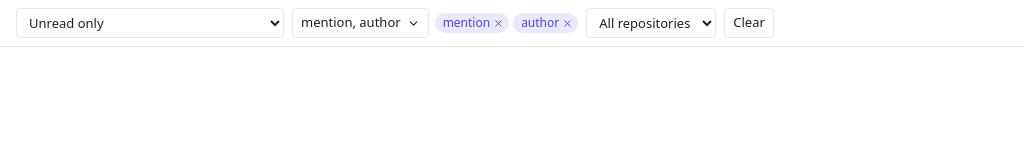
it: FilterBar › keeps selected reasons visible when absent from the current items
The width and height of the screenshot is (1024, 162).
Click the button with aria-label "Reason filter". click: (360, 23)
box: [292,8,429,38]
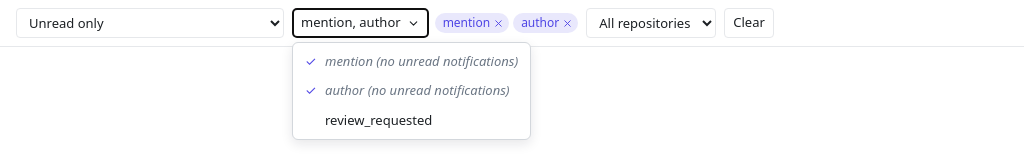
Expected: the button "✓ mention (no unread notifications)" is shown, [297,47,526,76]
Expected: the button "✓ author (no unread notifications)" is shown, [297,76,526,106]
